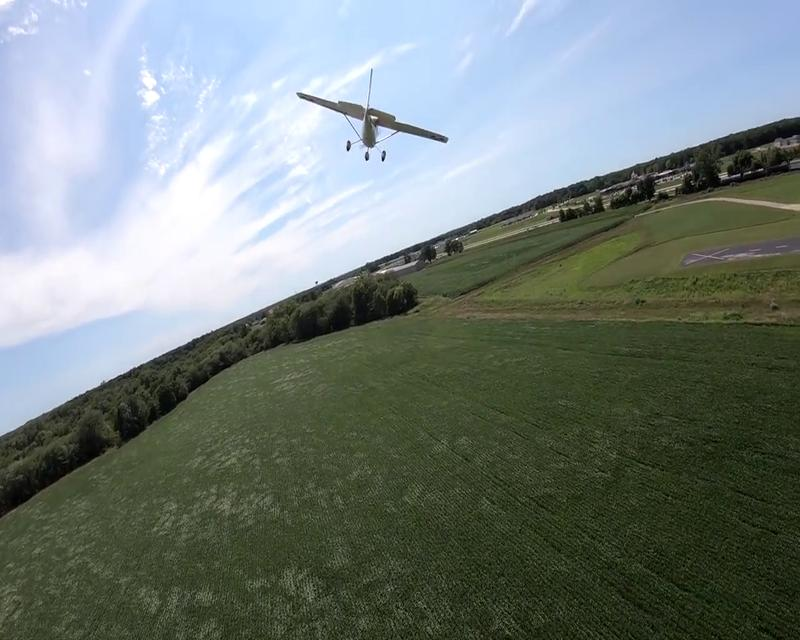UAV: (294, 67, 448, 162)
